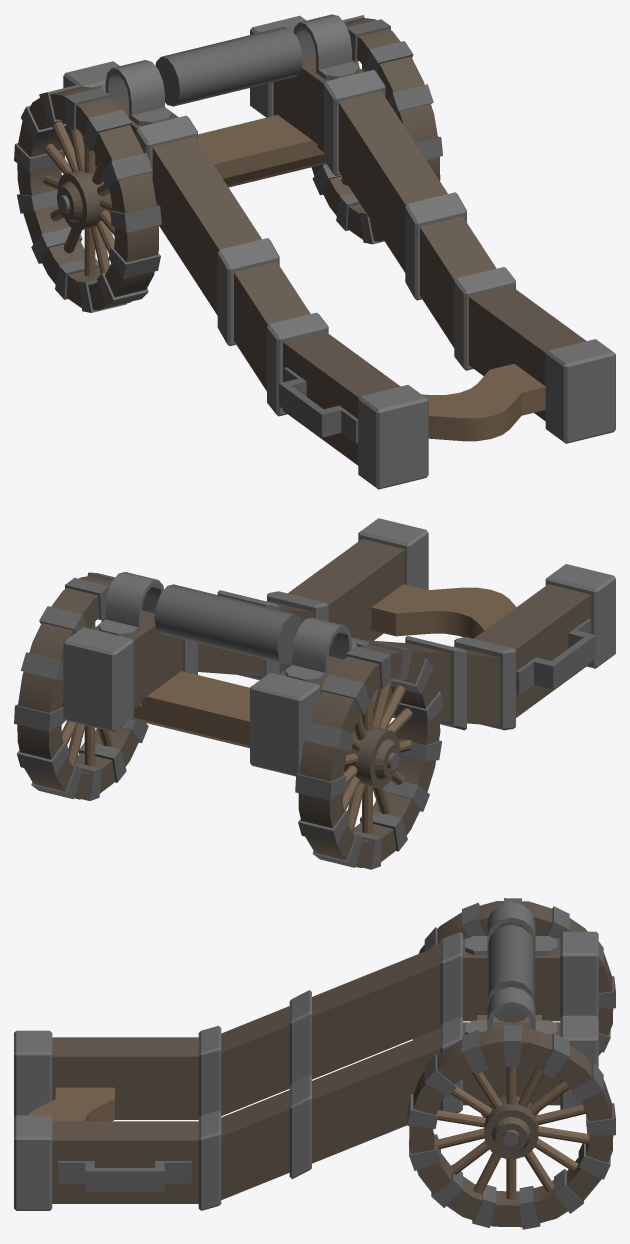
The model's file is Cannon_Holder.fbx.
3 renders of one model, top to bottom at view 1: azimuth 30°, elevation 25°; view 2: azimuth 150°, elevation 25°; view 3: azimuth 270°, elevation 25°, orthographic. The views are drawn at different scales.
Visible parts, largest first — view 1: pCube150; view 2: pCube150; view 3: pCube150.
Part boxes in pixels (x1,y1,x2,y2): pCube150: (14, 14, 615, 489); pCube150: (14, 518, 615, 869); pCube150: (14, 898, 615, 1229).
Bounding box in the file's own units: 2.13 × 1.36 × 3.6.
